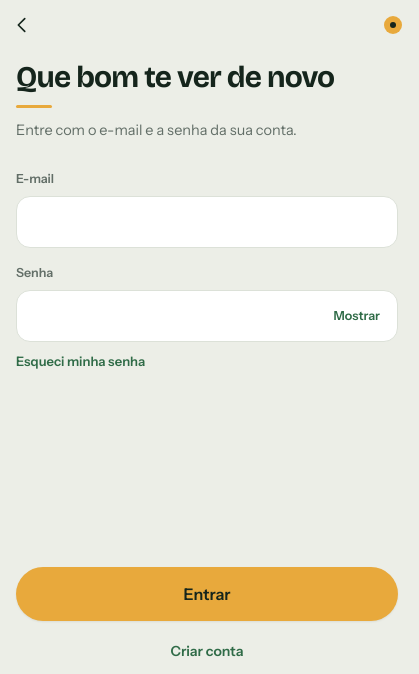
Test: Entrar › sem rede avisa e libera o botão de novo
Type "camila@exemplo.com" into the field labelled "E-mail".
click(207, 222); type("camila@exemplo.com")  # box [16,196,398,248]
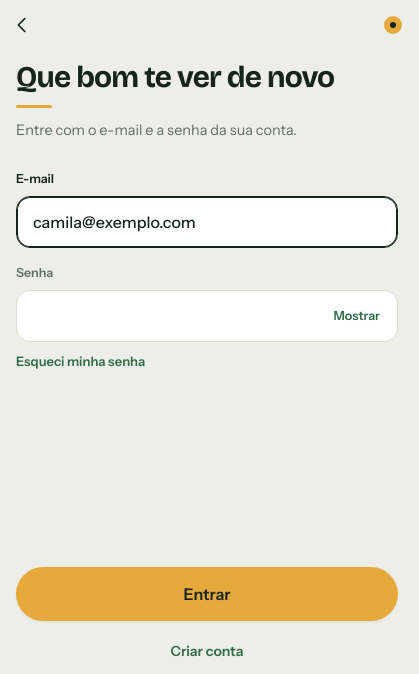
Type "senha1234" into the password field labelled "Senha".
click(207, 316); type("senha1234")  # box [16,290,398,342]
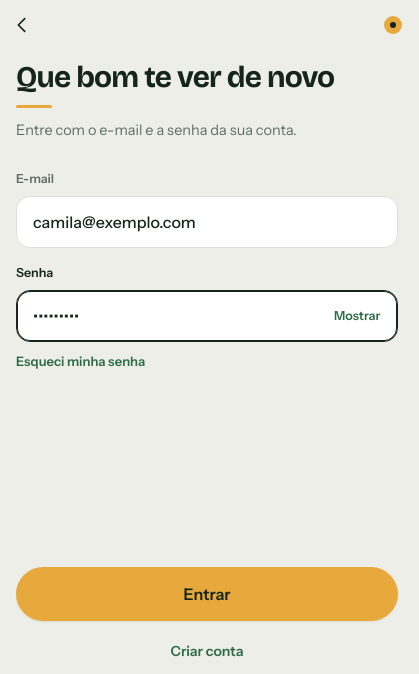
Click the button "Entrar".
click(207, 594)  # box [16,567,398,621]
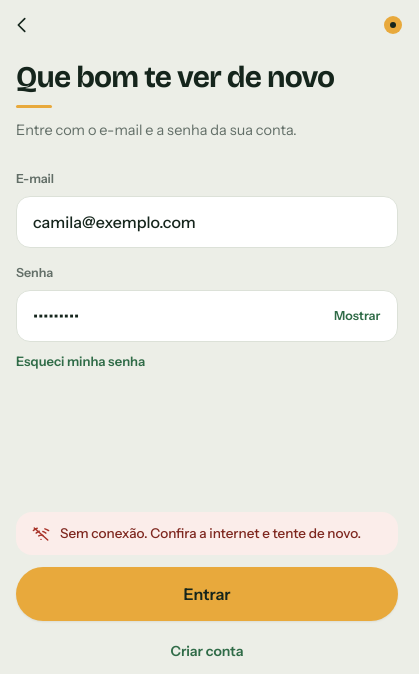
Result: the message reads "Sem conexão. Confira a internet e tente de novo." at [60,525,361,541]
